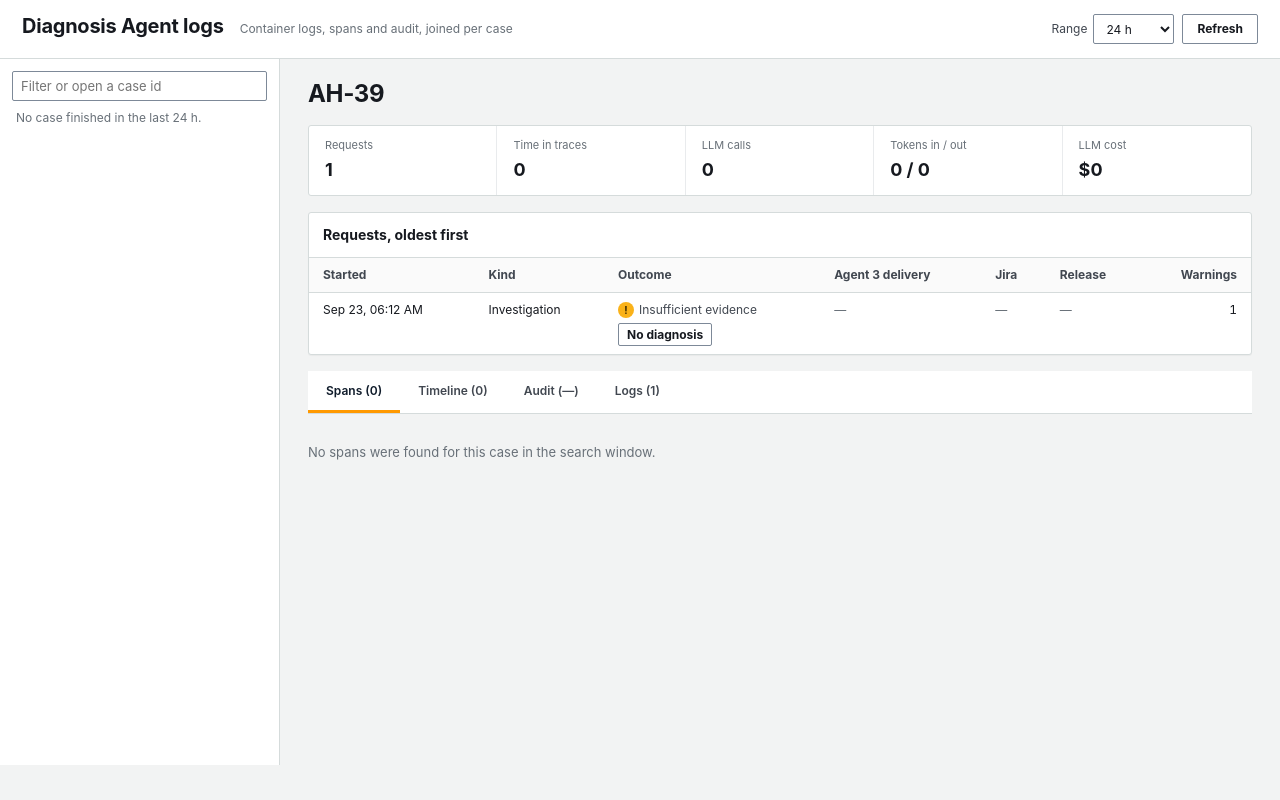
Test case: after a 202, the new task is read every 5 s and the case view every 10 s until each has an answer
Click the button "No diagnosis": (665, 334) x1=618 y1=323 x2=712 y2=346
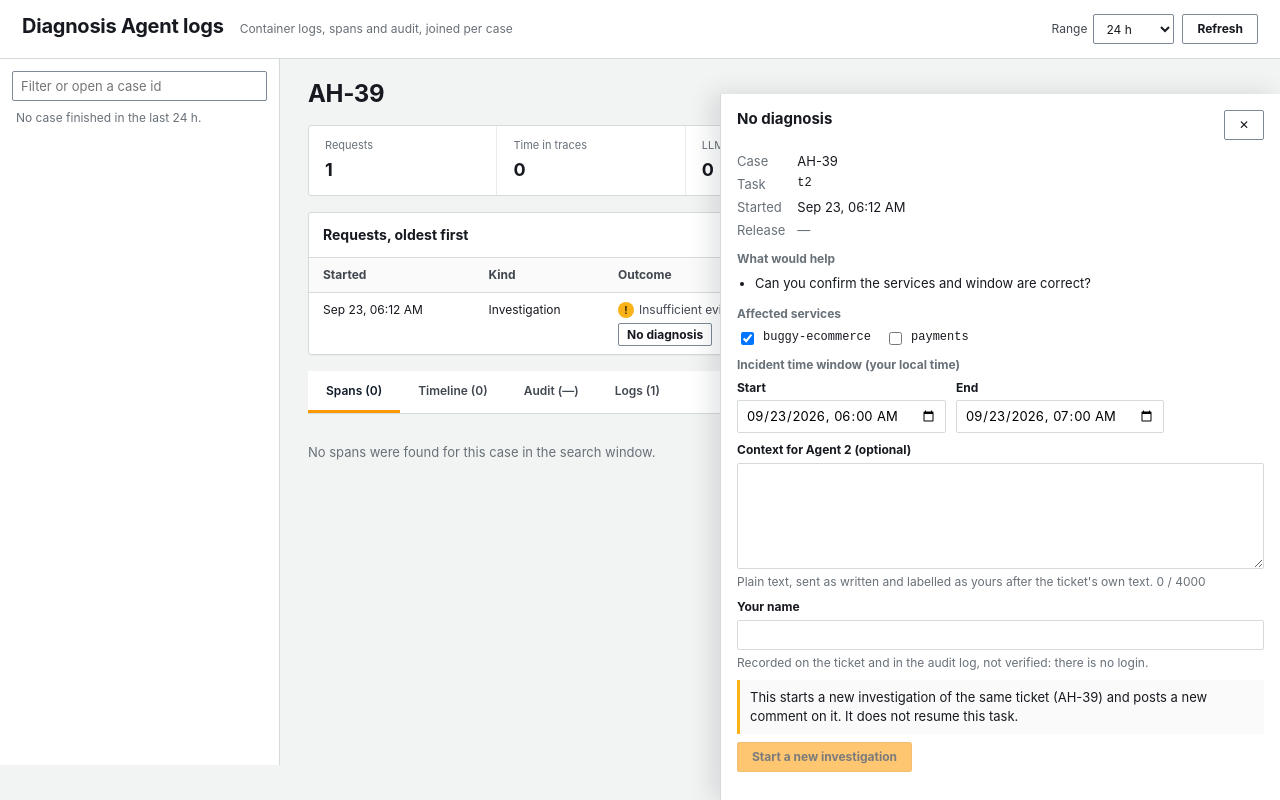
Check: the heading "What would help" is shown, box x1=737 y1=251 x2=835 y2=266
In the field labelled "Your name": (1000, 635) x1=737 y1=620 x2=1264 y2=650, type "Dana"
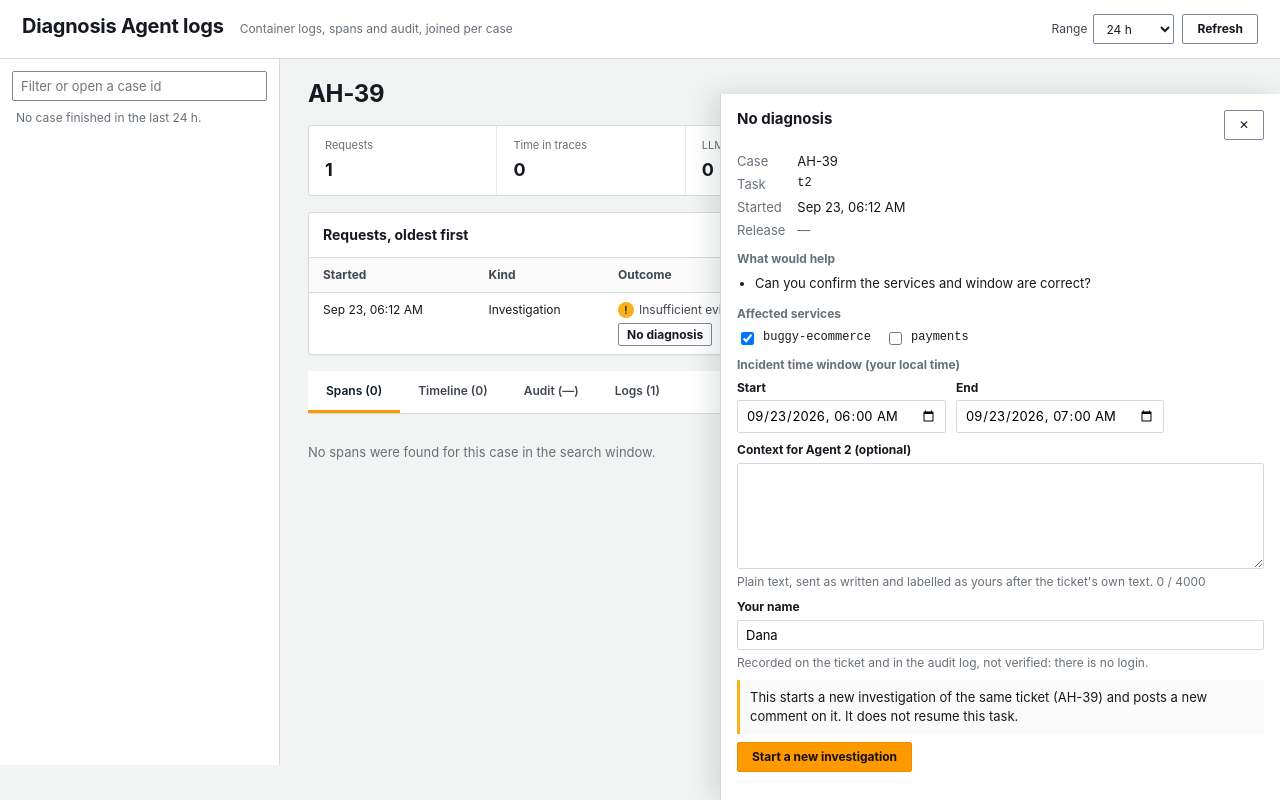
Click the button "Start a new investigation": (824, 756) x1=737 y1=742 x2=912 y2=772
Wait 50000 ms
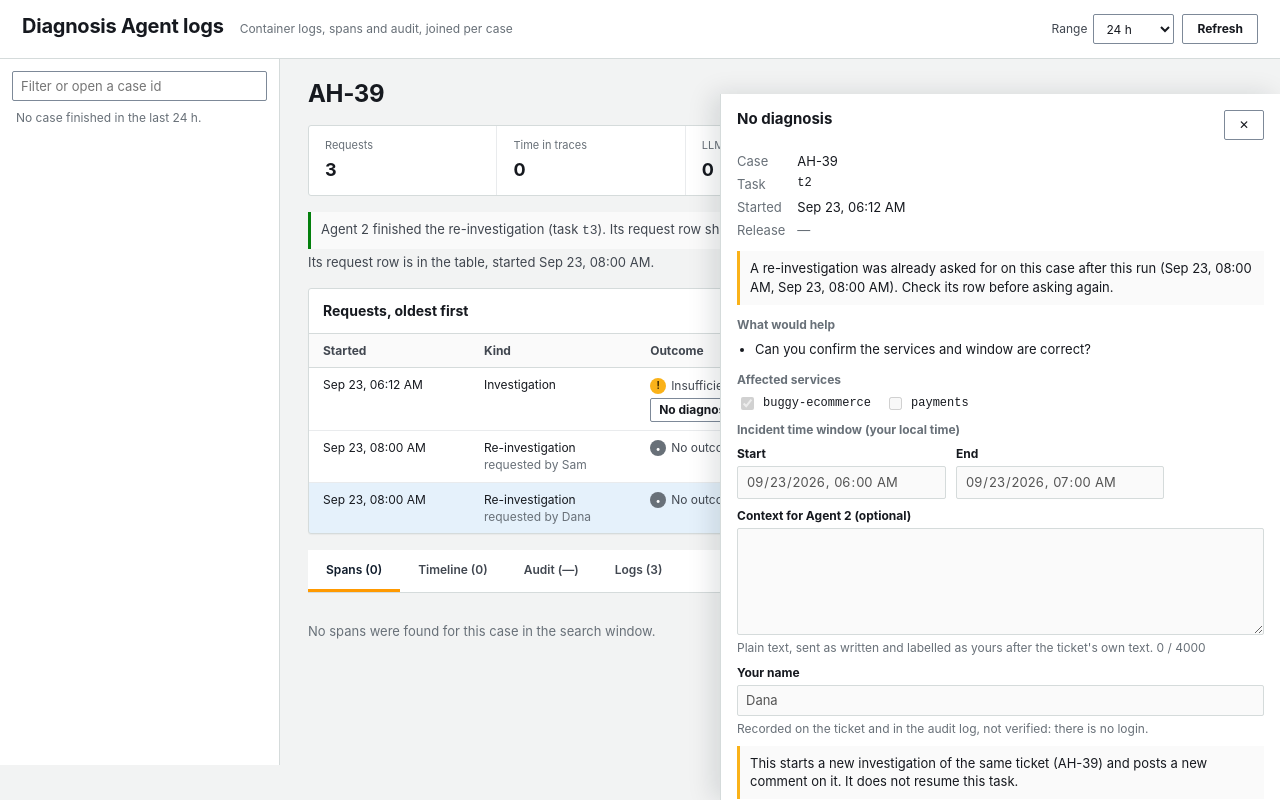
Check: the text "requested by Dana" is shown, box x1=484 y1=509 x2=591 y2=524
Check: the text "requested by Sam" is shown, box x1=484 y1=457 x2=587 y2=472
